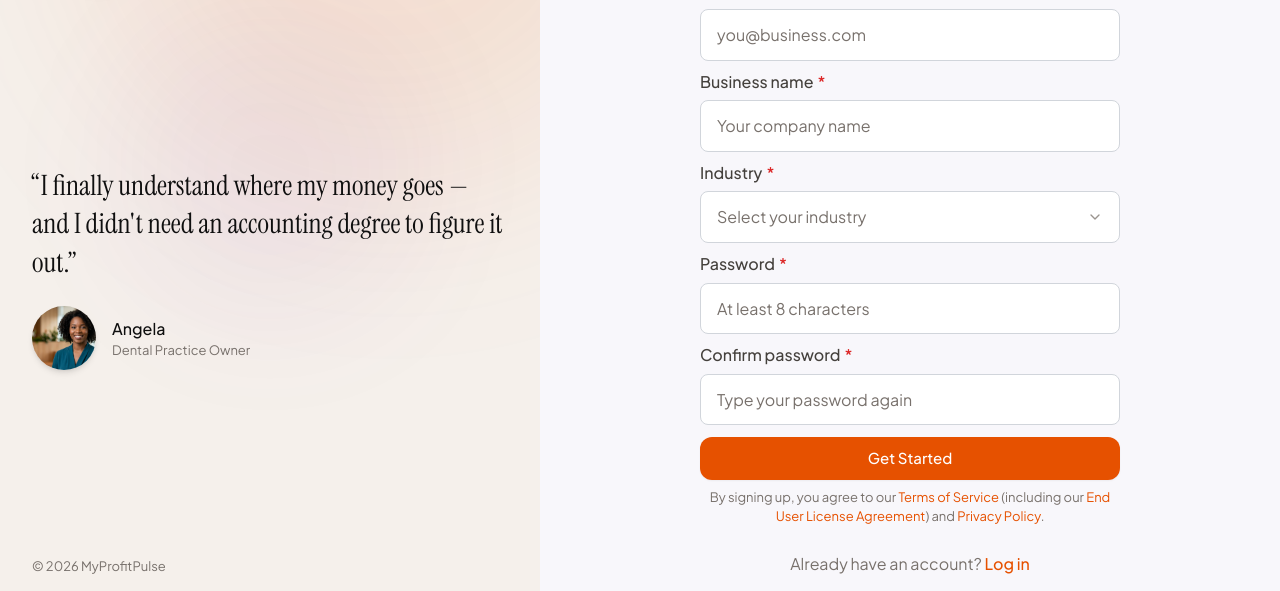
Test: SignUpPage › shows validation errors when submitting empty form
This screenshot has width=1280, height=591.
(page scrolled)
What coordinates should you click on to do the following:
click the button "Get Started"
I would click on:
 (910, 459)
Its box is [700,437,1120,480].
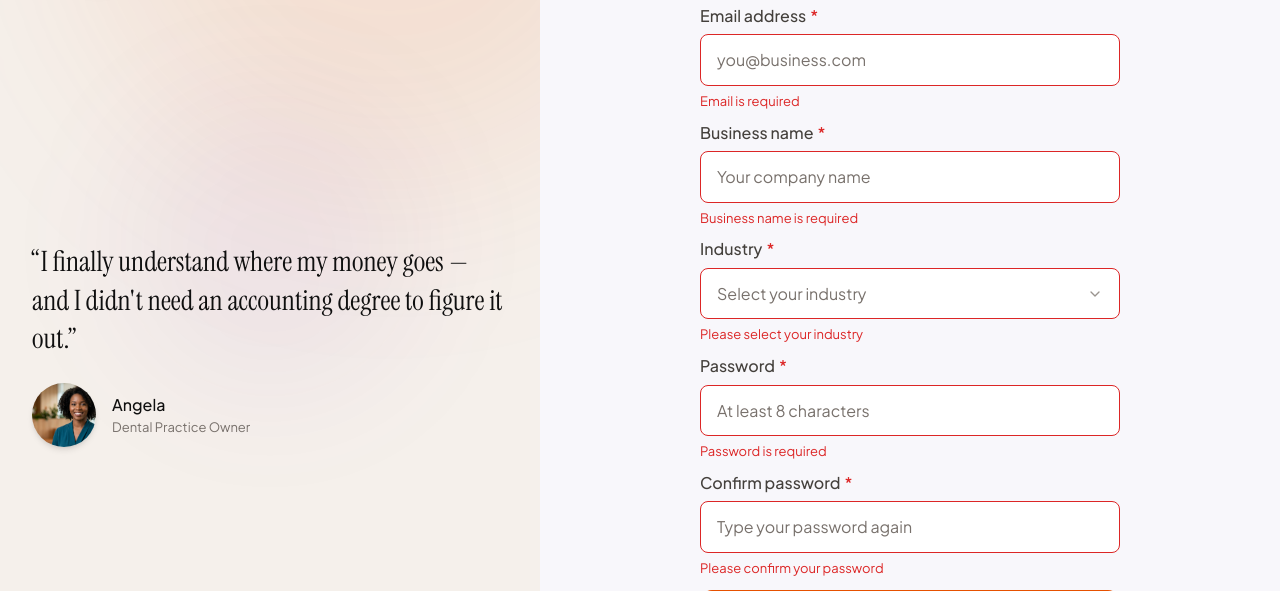
Expected: the text "Email is required" is shown, [700,93,800,109]
Expected: the text "Business name is required" is shown, [700,210,858,226]
Expected: the text "Please select your industry" is shown, [700,326,863,342]
